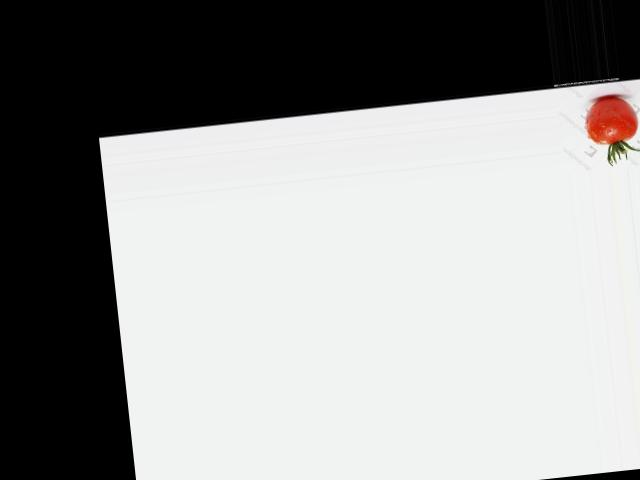tomato: (583, 94, 640, 145)
